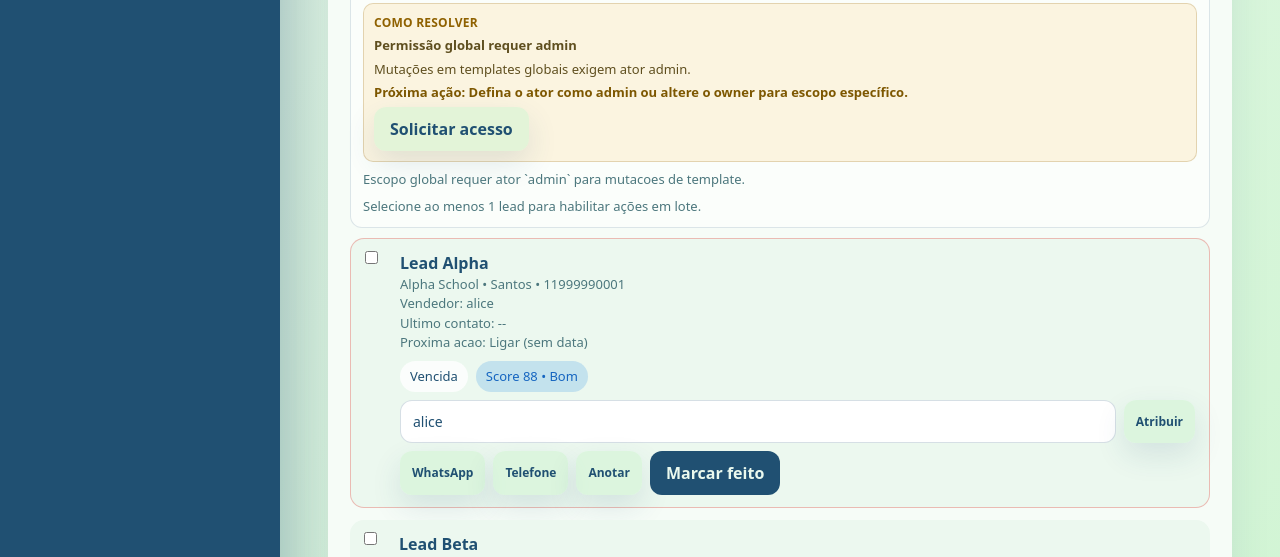
Scenario: SDR page › sends batch done action request for selected leads
(page scrolled)
Expected: the text "Lead Alpha" is shown, [400,252,489,274]
Click the checkbox named "Selecionar lead 1" at (372, 257), box [365,250,378,264]
(page scrolled)
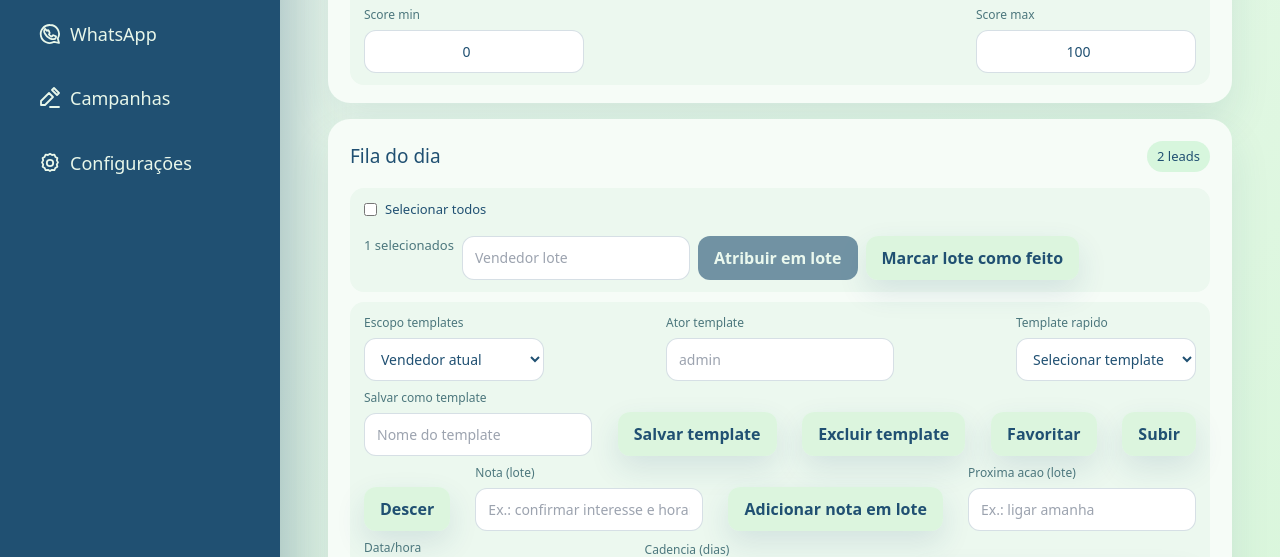
Click the button "Marcar lote como feito" at (972, 258), box [866,236,1079,280]
(page scrolled)
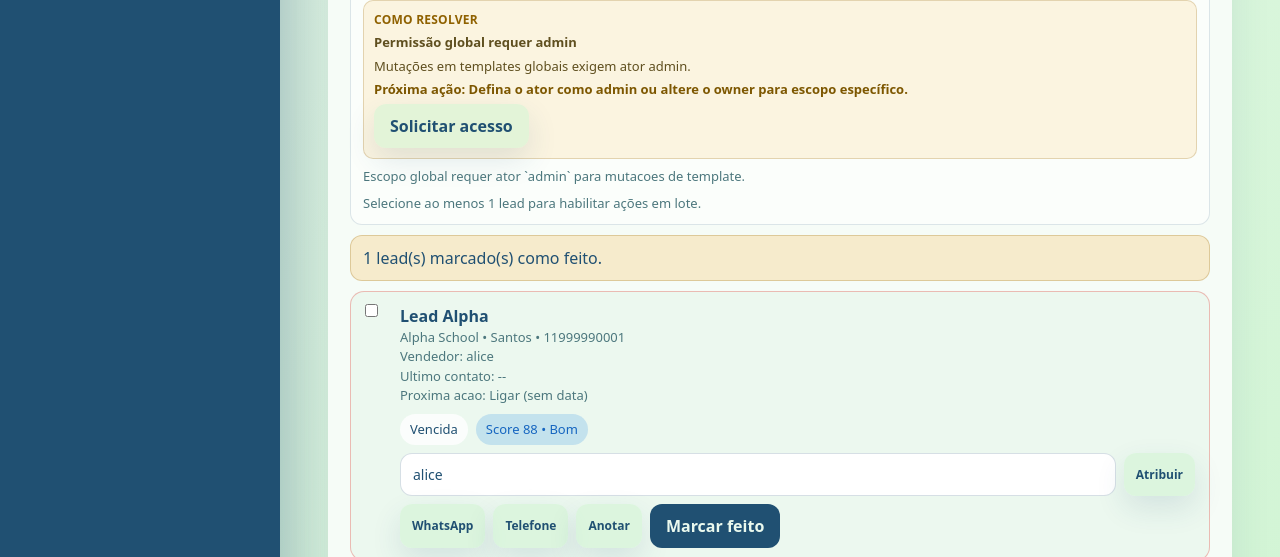
Now the text "1 lead(s) marcado(s) como feito." is shown, box [350,234,1210,280]
